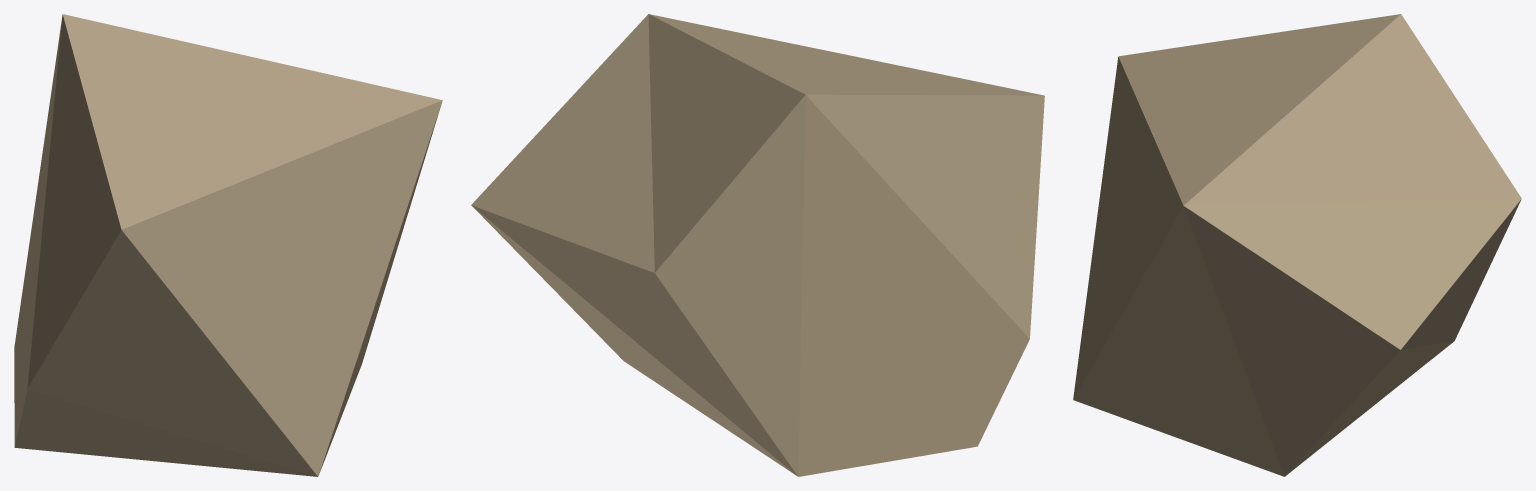
Rendered from Rock-C06.fbx.
3 renders of one model, left to right at view 1: azimuth 30°, elevation 25°; view 2: azimuth 150°, elevation 25°; view 3: azimuth 270°, elevation 25°, orthographic. The views are drawn at different scales.
Visible parts, largest first — view 1: Rock-C06; view 2: Rock-C06; view 3: Rock-C06.
Part boxes in pixels (left/top/right/bottom): Rock-C06: left=14, top=14, right=442, bottom=476; Rock-C06: left=471, top=14, right=1044, bottom=476; Rock-C06: left=1073, top=14, right=1521, bottom=476.
Size of the model in its own units: 33.82 by 25.79 by 29.91.
